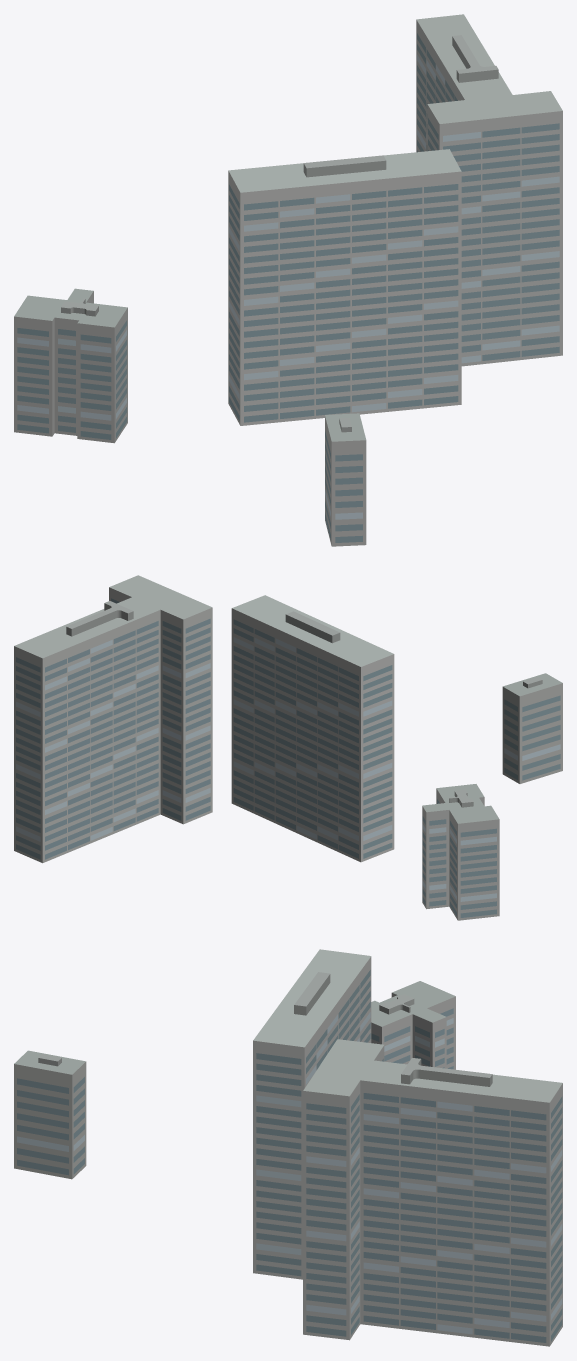
The model's file is apt-a13204502.glb.
3 renders of one model, top to bottom at view 1: azimuth 30°, elevation 25°; view 2: azimuth 150°, elevation 25°; view 3: azimuth 270°, elevation 25°, orthographic. The views are drawn at different scales.
Visible parts, largest first — view 1: apt-a13204502; view 2: apt-a13204502; view 3: apt-a13204502.
Boxes of the visible parts, x1,y1,x2,y2 form: apt-a13204502: (14, 14, 562, 546); apt-a13204502: (14, 575, 562, 920); apt-a13204502: (14, 949, 562, 1346).
Size of the model in its own units: 142 by 67 by 132.
